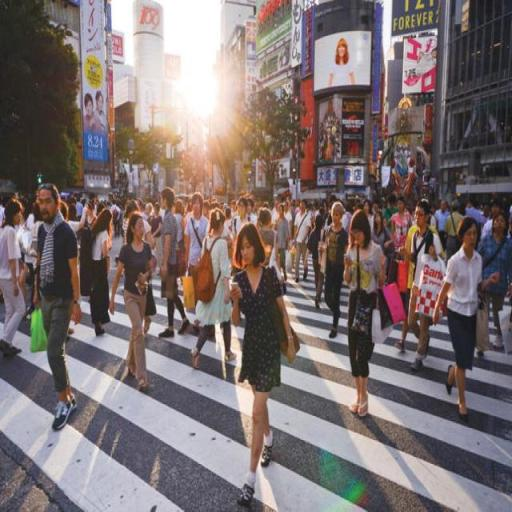person: (232, 224, 301, 507), (36, 187, 80, 431), (437, 223, 487, 422), (346, 211, 388, 419), (192, 208, 241, 367), (114, 213, 155, 393), (405, 203, 444, 372), (156, 191, 189, 338), (481, 216, 512, 352), (321, 203, 347, 342), (185, 195, 211, 330), (4, 199, 25, 364), (93, 210, 119, 339), (19, 199, 40, 316), (294, 200, 314, 284), (309, 218, 325, 311), (391, 199, 414, 263), (446, 199, 467, 265), (276, 207, 291, 288)
